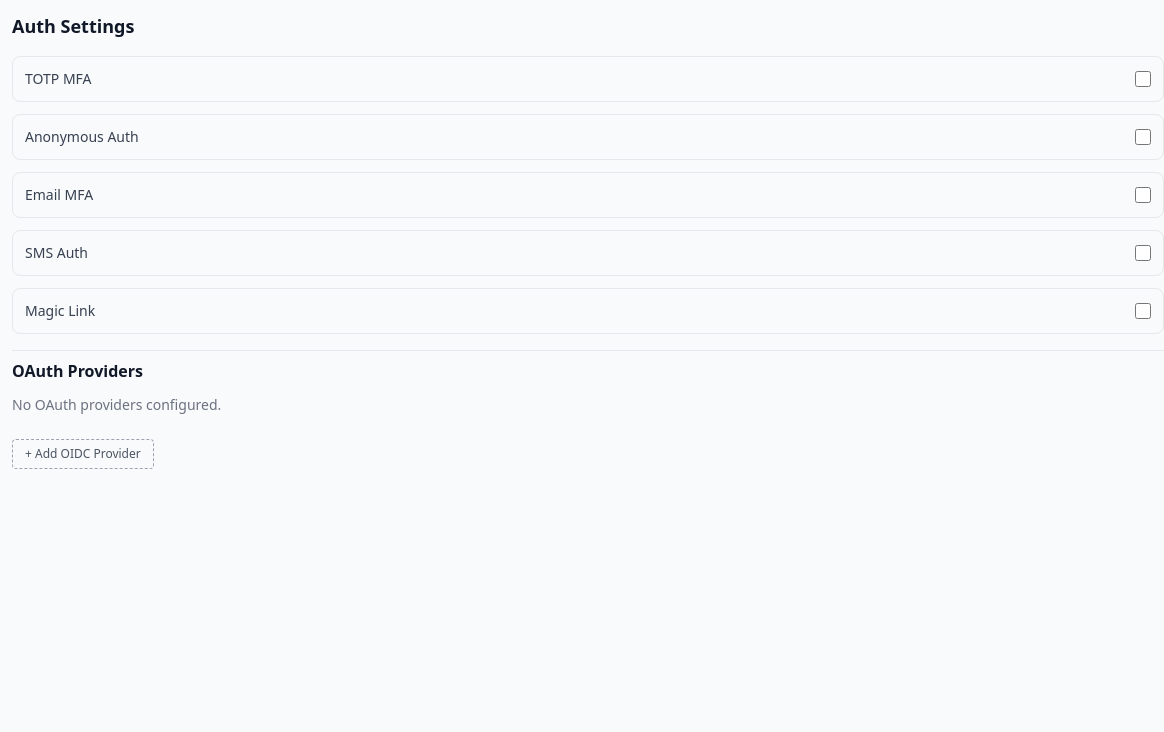
Test: AuthSettings › does not show OIDC success when reload fails after save
The image size is (1164, 732).
Click the button with test id "add-oidc-provider" at (83, 454), box [12,439,154,469]
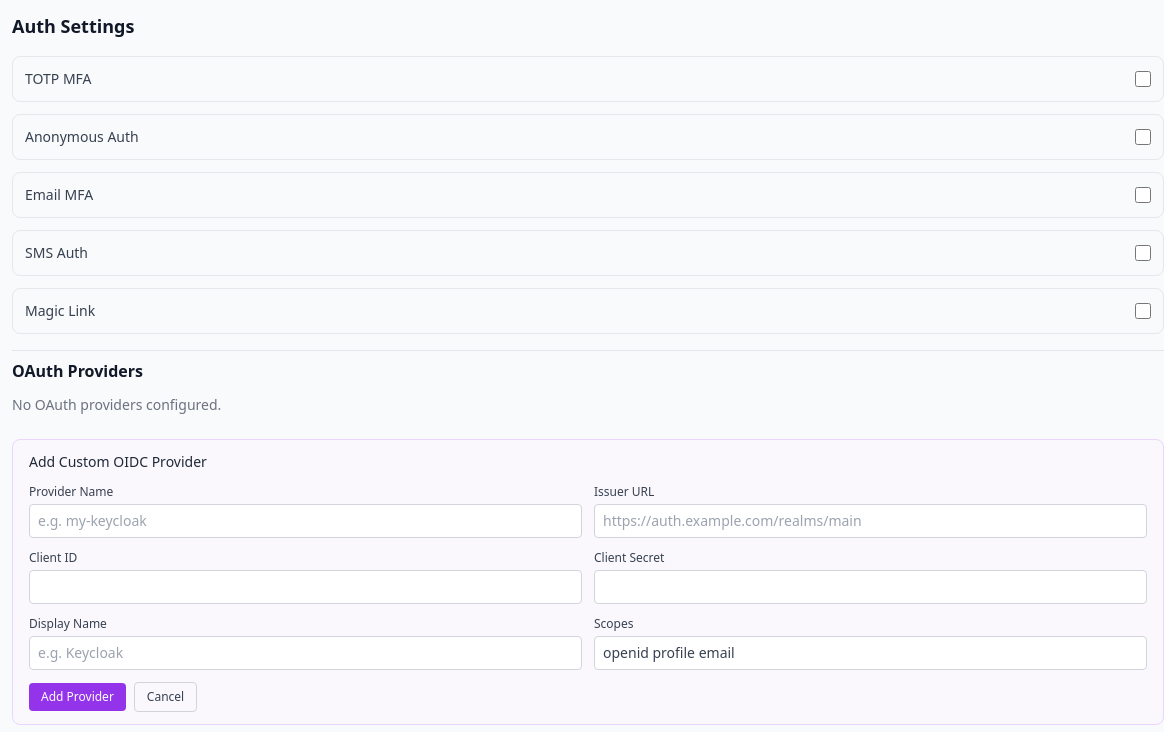
Type "my-keycloak" into the field with test id "oidc-form-provider-name" at (306, 521), box [29,504,582,538]
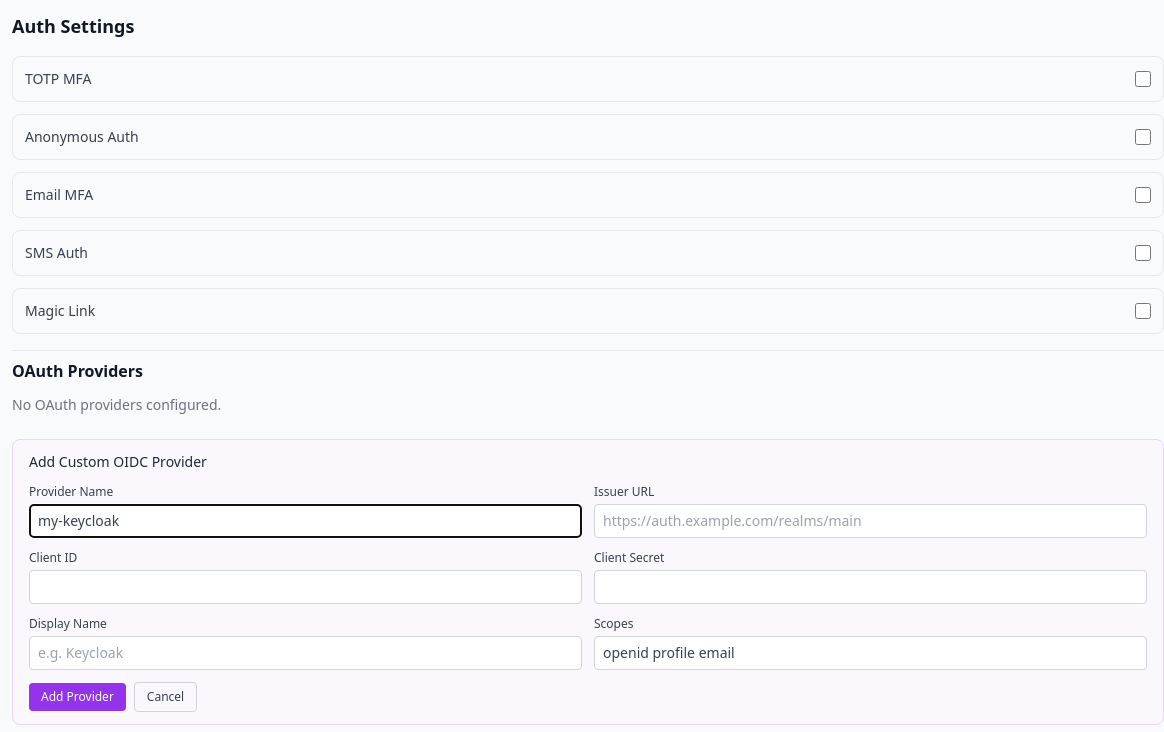
Type "https://keycloak.example.com/realms/main" into the field with test id "oidc-form-issuer-url" at (870, 521), box [594,504,1147,538]
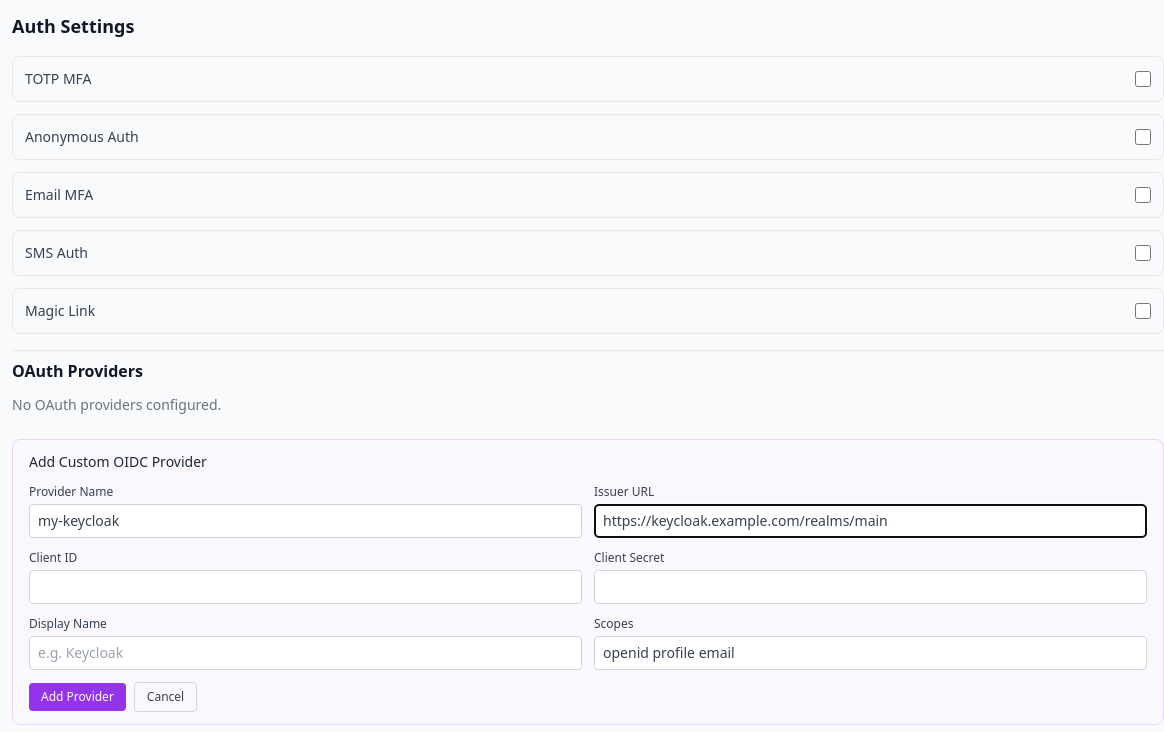
Type "kc-client" into the field with test id "oidc-form-client-id" at (306, 587), box [29,570,582,604]
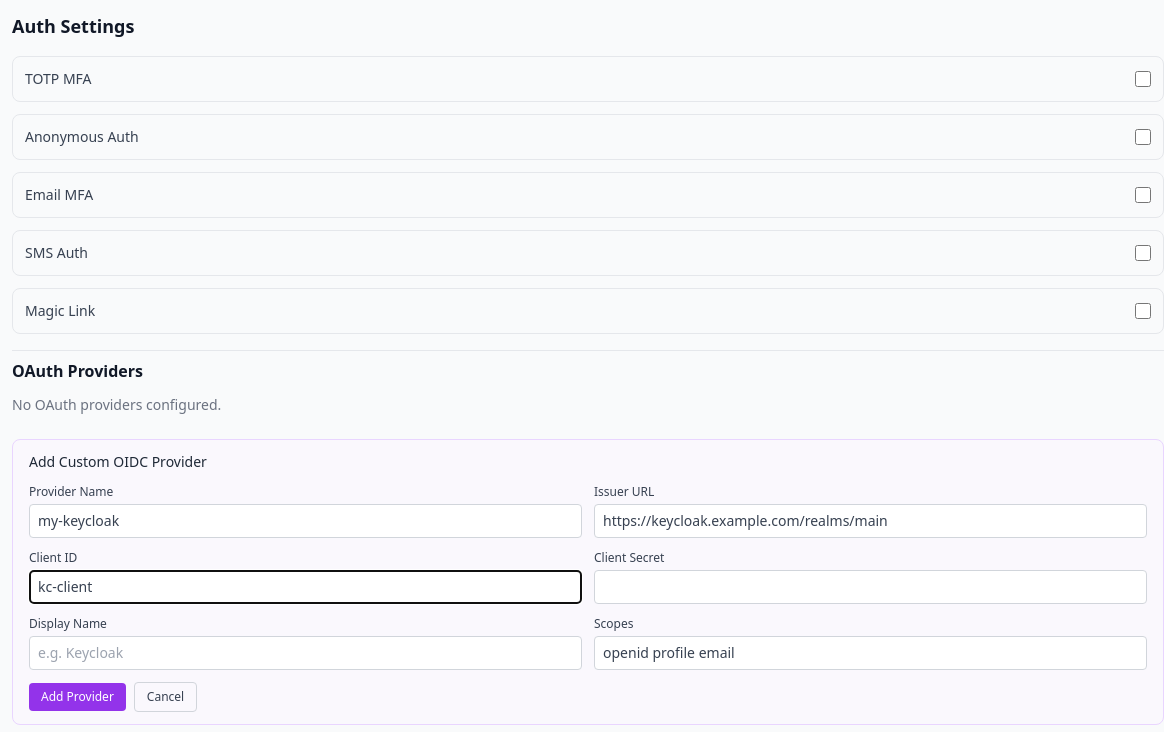
Type "kc-secret" into the password field with test id "oidc-form-client-secret" at (870, 587), box [594,570,1147,604]
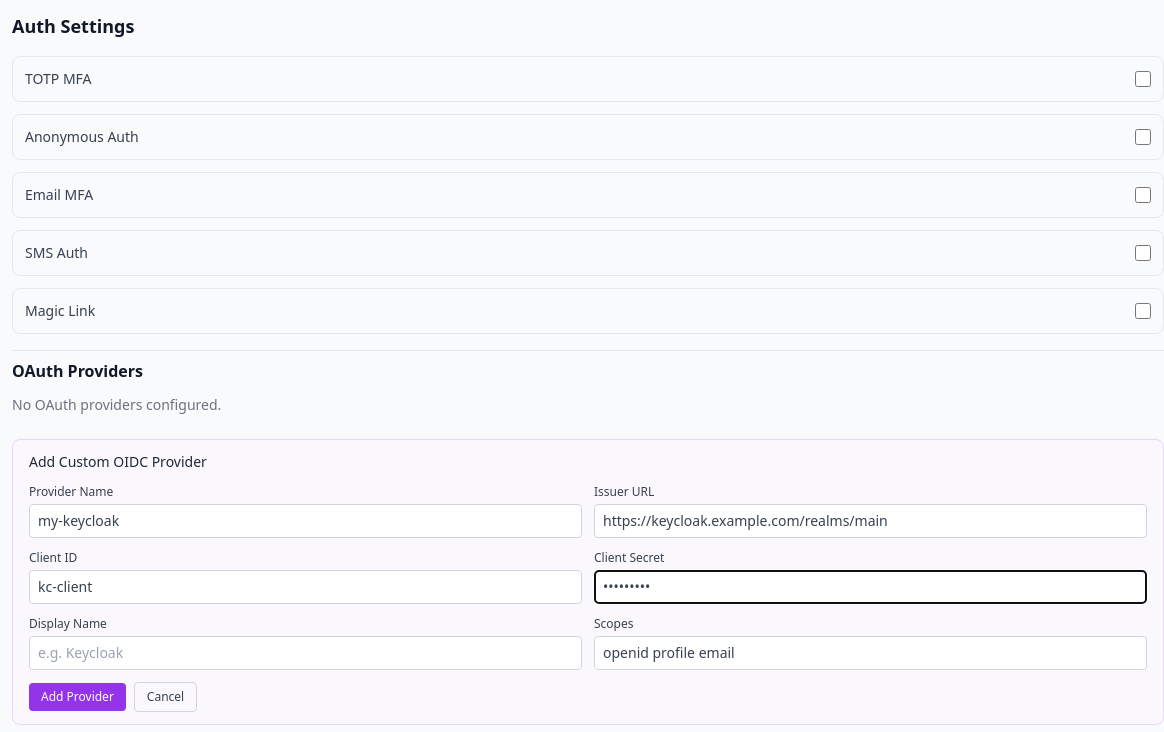
Click the button with test id "oidc-form-save" at (77, 697), box [29,683,126,711]
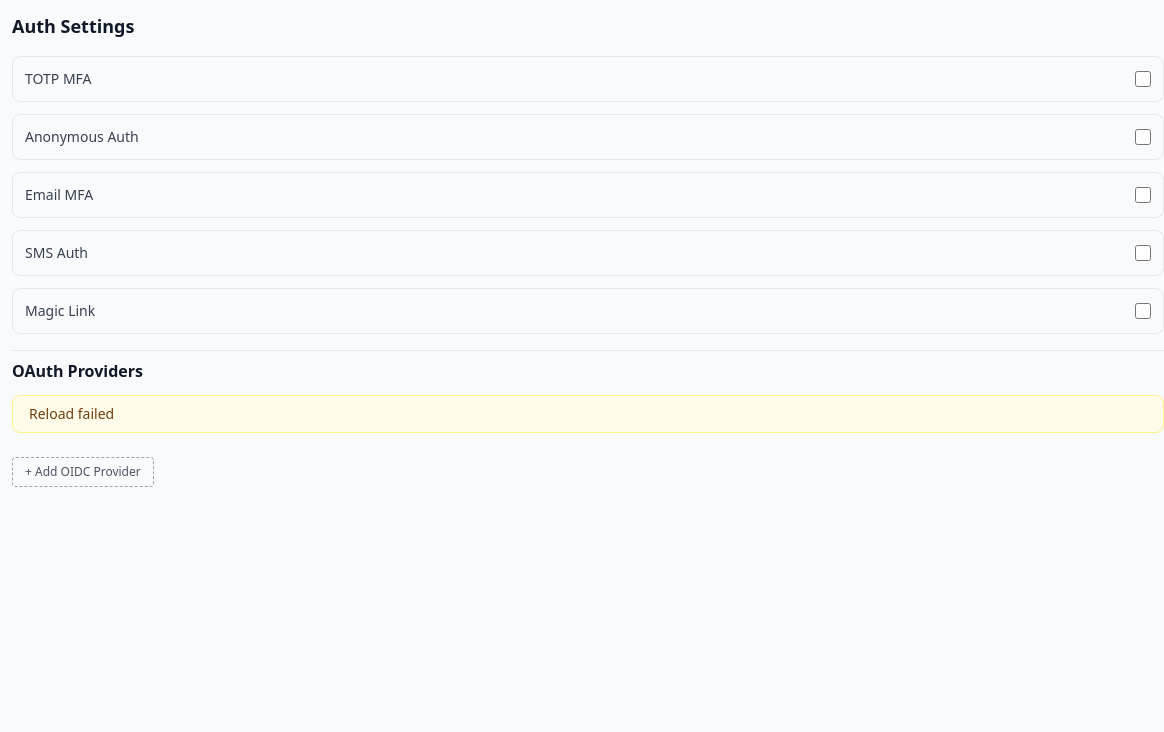
Now the text "Reload failed" is shown, box [12,395,1163,433]
